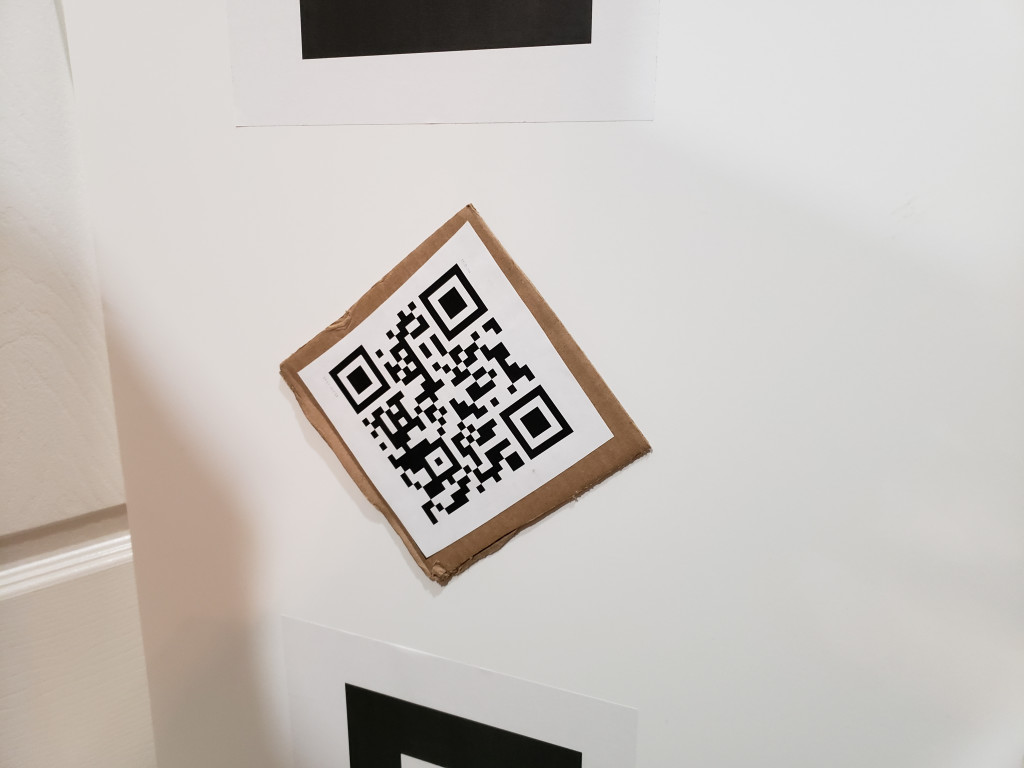QR_CODE: (322, 254, 583, 538)
